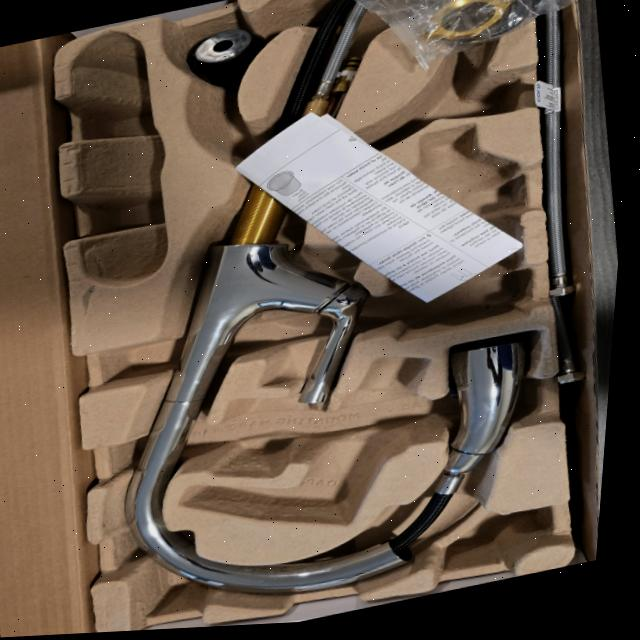1o: (123, 0, 529, 595)
2m: (178, 357, 426, 523)
3m: (385, 124, 526, 339)
4m: (69, 34, 166, 286)
5: (188, 28, 267, 88)
6: (351, 0, 571, 68)
7m: (366, 61, 533, 142)
8: (233, 108, 525, 303)
